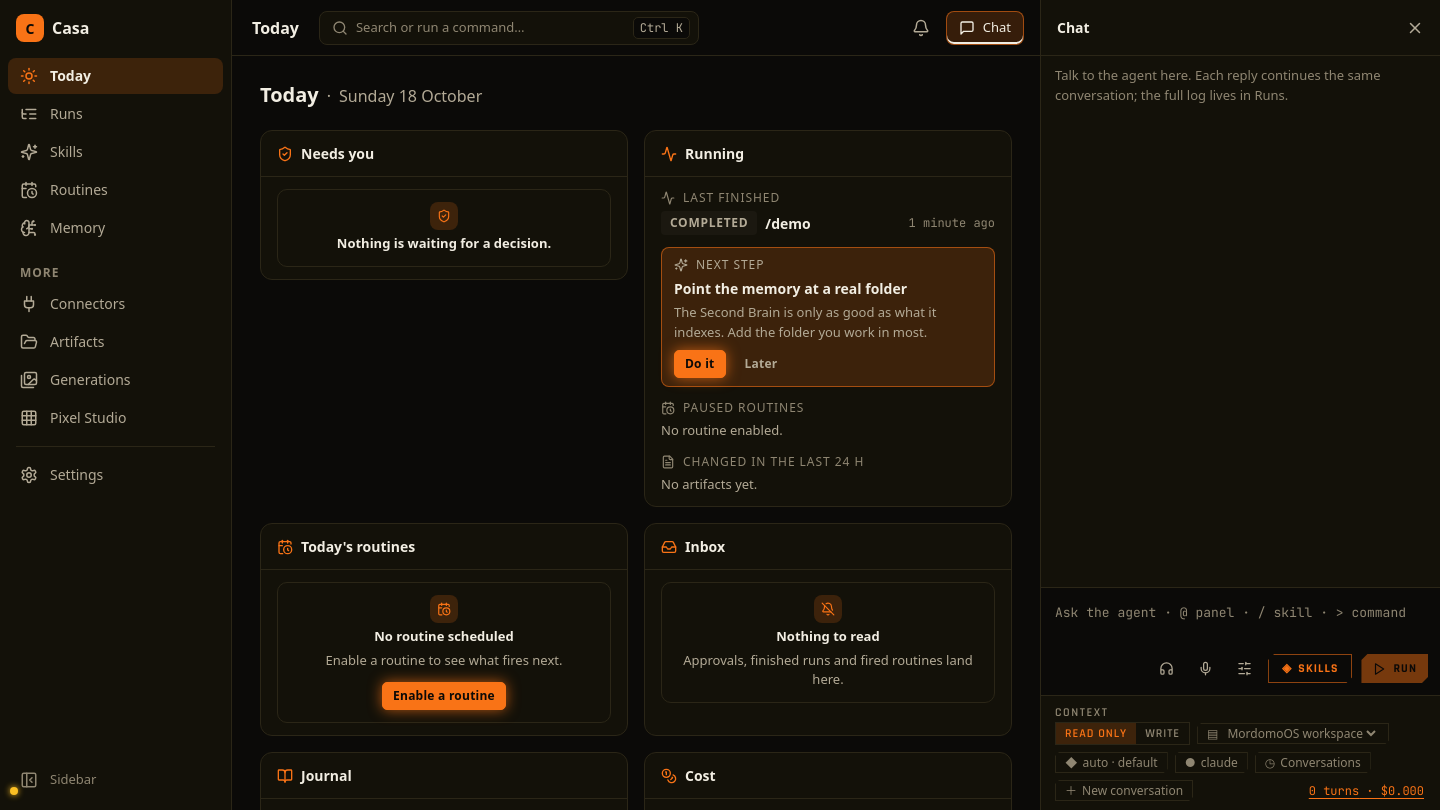
Scenario: C21 the popovers › C21 the console's model chip opens a popover over the control: not modal, Escape closes it and focus returns to the chip
This screenshot has width=1440, height=810.
Click the button "◆ auto · default": (1111, 762) [1055,752,1168,773]
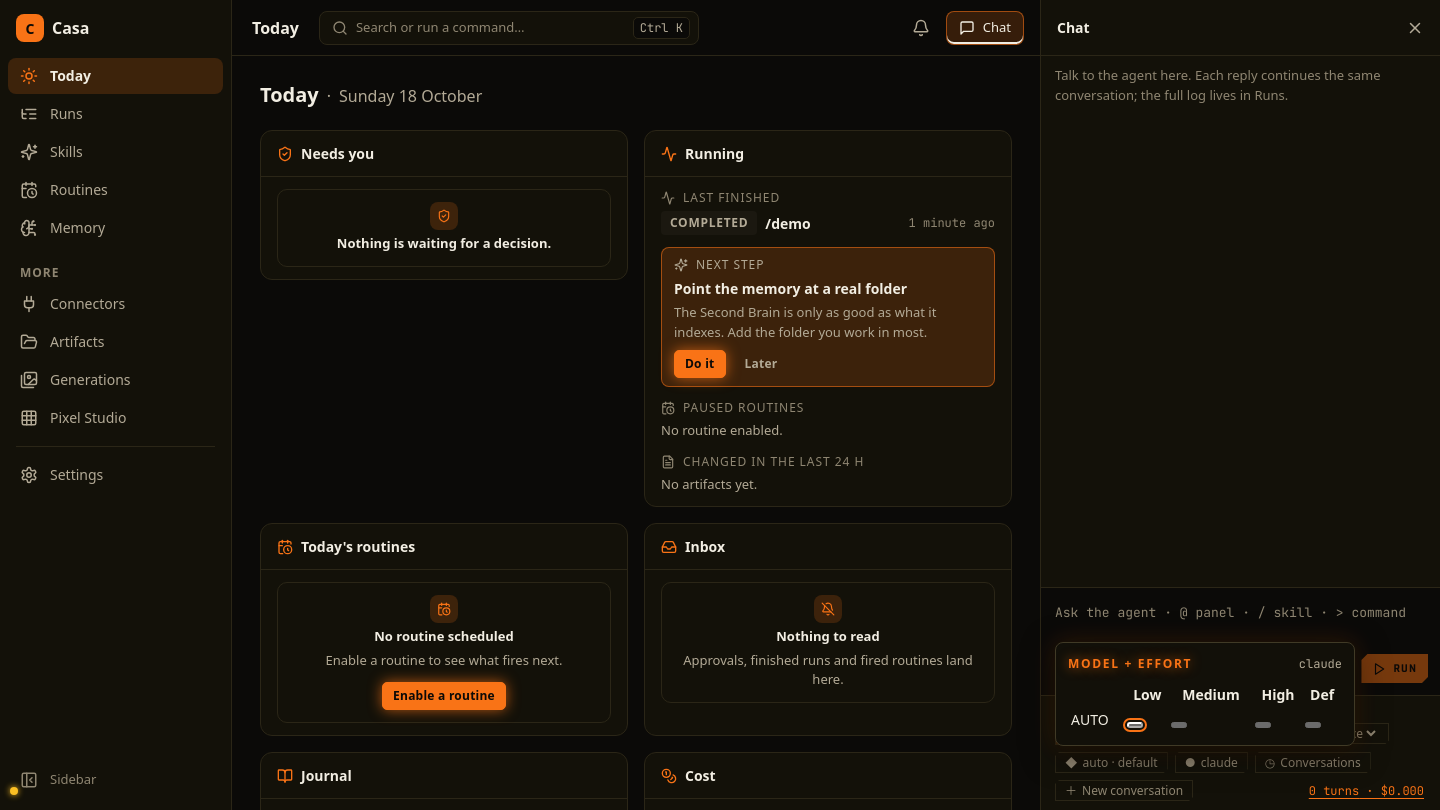
Press Escape in the dialog "Model + effort claude Low Medium High Def AUTO", box [1055,642,1355,746]
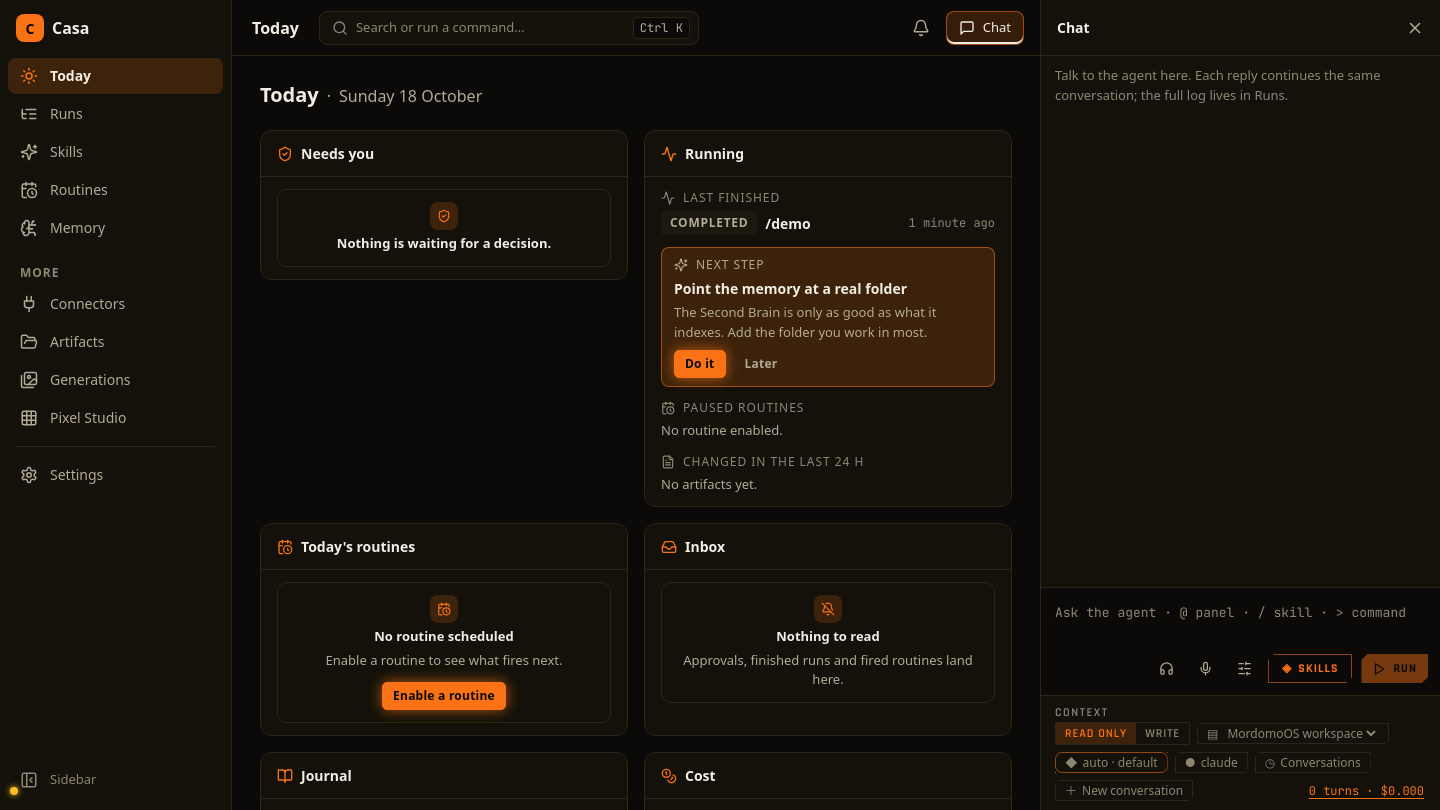
Expected: the text "Model" is gone
